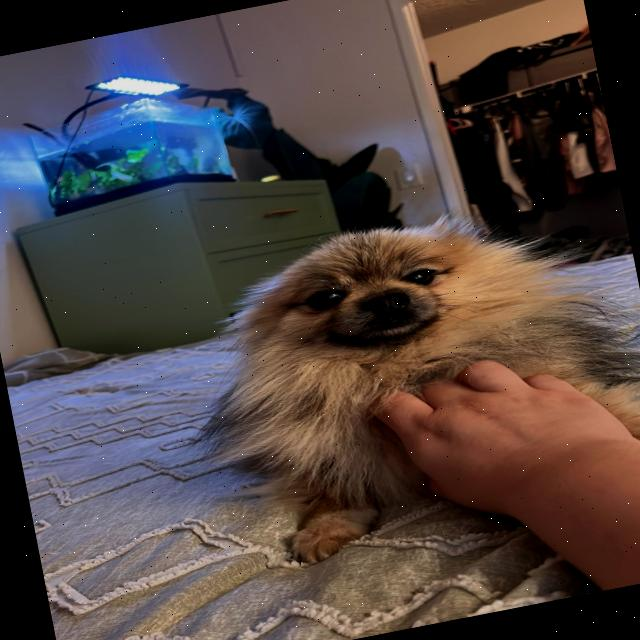pomeranian_dog: (224, 196, 551, 398)
